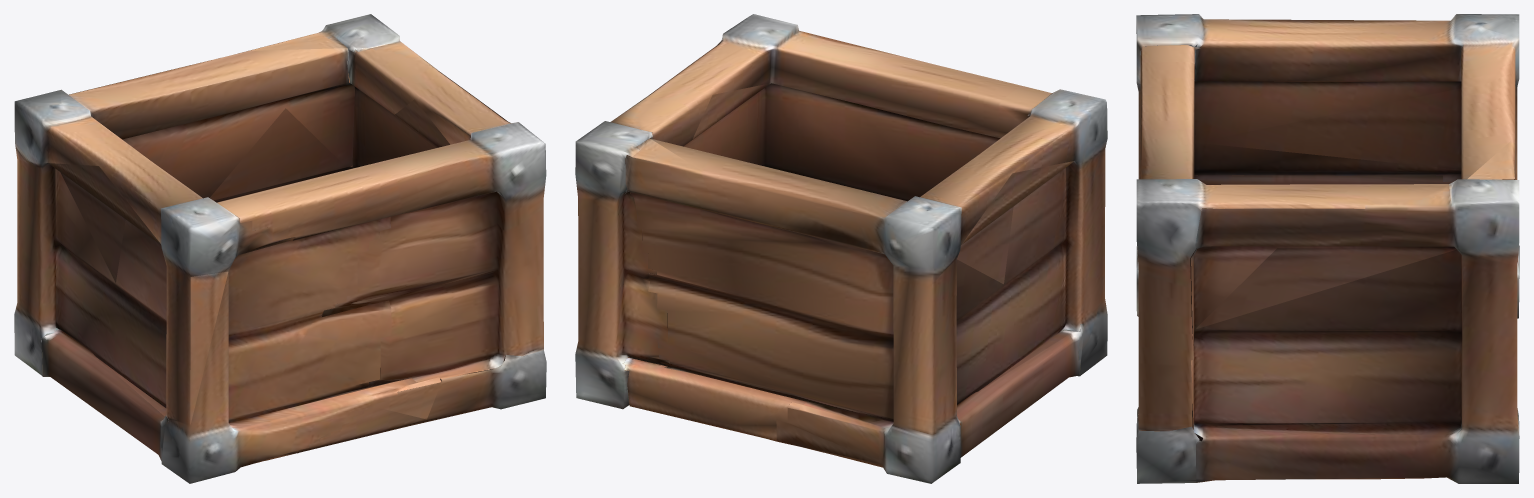
Rendered from crate.glb.
3 renders of one model, left to right at view 1: azimuth 30°, elevation 25°; view 2: azimuth 150°, elevation 25°; view 3: azimuth 270°, elevation 25°, orthographic. The views are drawn at different scales.
Visible parts, largest first — view 1: crate; view 2: crate; view 3: crate.
Boxes of the visible parts, x1,y1,x2,y2 form: crate: (14, 14, 546, 483); crate: (575, 14, 1107, 483); crate: (1136, 14, 1519, 483).
Size of the model in its own units: 1.78 by 1.23 by 1.51.
1 material, 1 textured.
